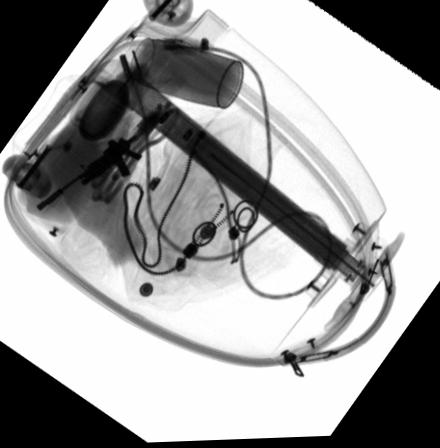Gun: (34, 136, 142, 212)
